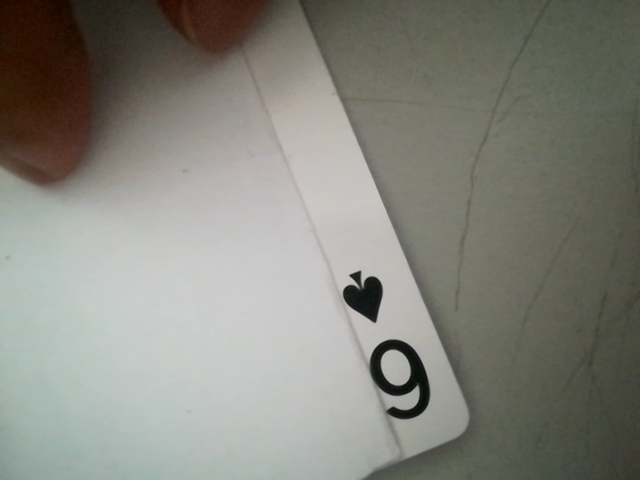ht 6: (332, 258, 454, 437)
